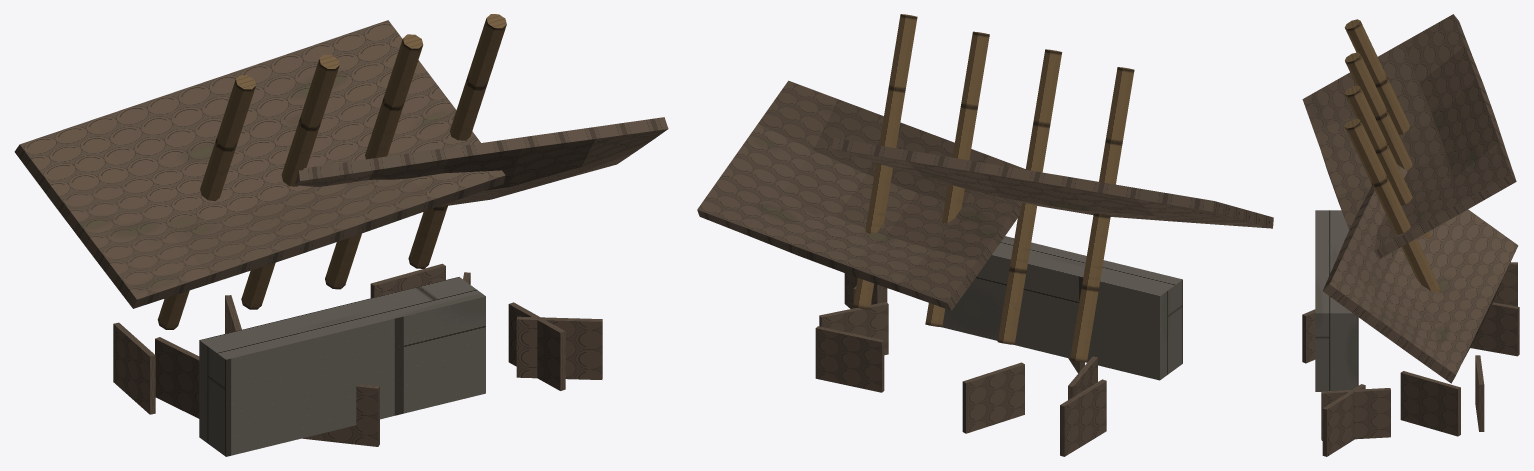
Rendered from nha-hoang-mai-ngoi-sup.glb.
3 renders of one model, left to right at view 1: azimuth 30°, elevation 25°; view 2: azimuth 150°, elevation 25°; view 3: azimuth 270°, elevation 25°, orthographic. The views are drawn at different scales.
Visible parts, largest first — view 1: nha-hoang-mai-ngoi-sup; view 2: nha-hoang-mai-ngoi-sup; view 3: nha-hoang-mai-ngoi-sup.
Part boxes in pixels (x1,y1,x2,y2): nha-hoang-mai-ngoi-sup: (14,14,668,456); nha-hoang-mai-ngoi-sup: (697,14,1273,456); nha-hoang-mai-ngoi-sup: (1302,14,1519,456).
Bounding box in the file's own units: 3.22 × 1.91 × 1.25.
Materials: 3 (3 with a texture image).
